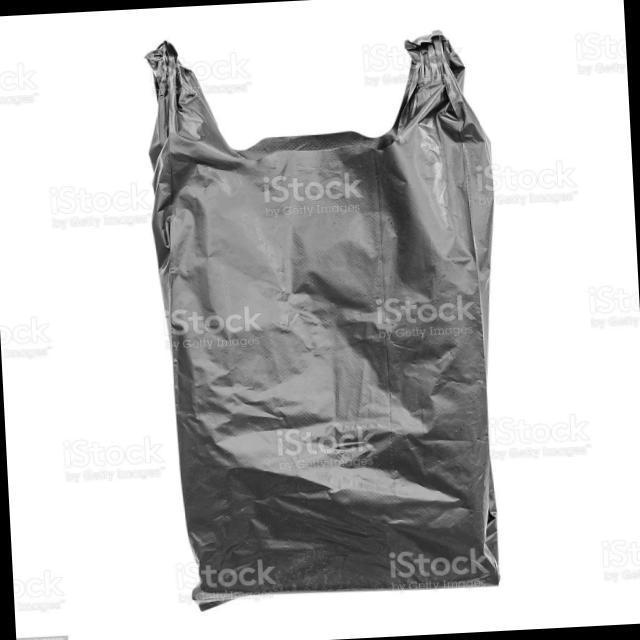Plastic_Bag: (127, 14, 510, 607)
